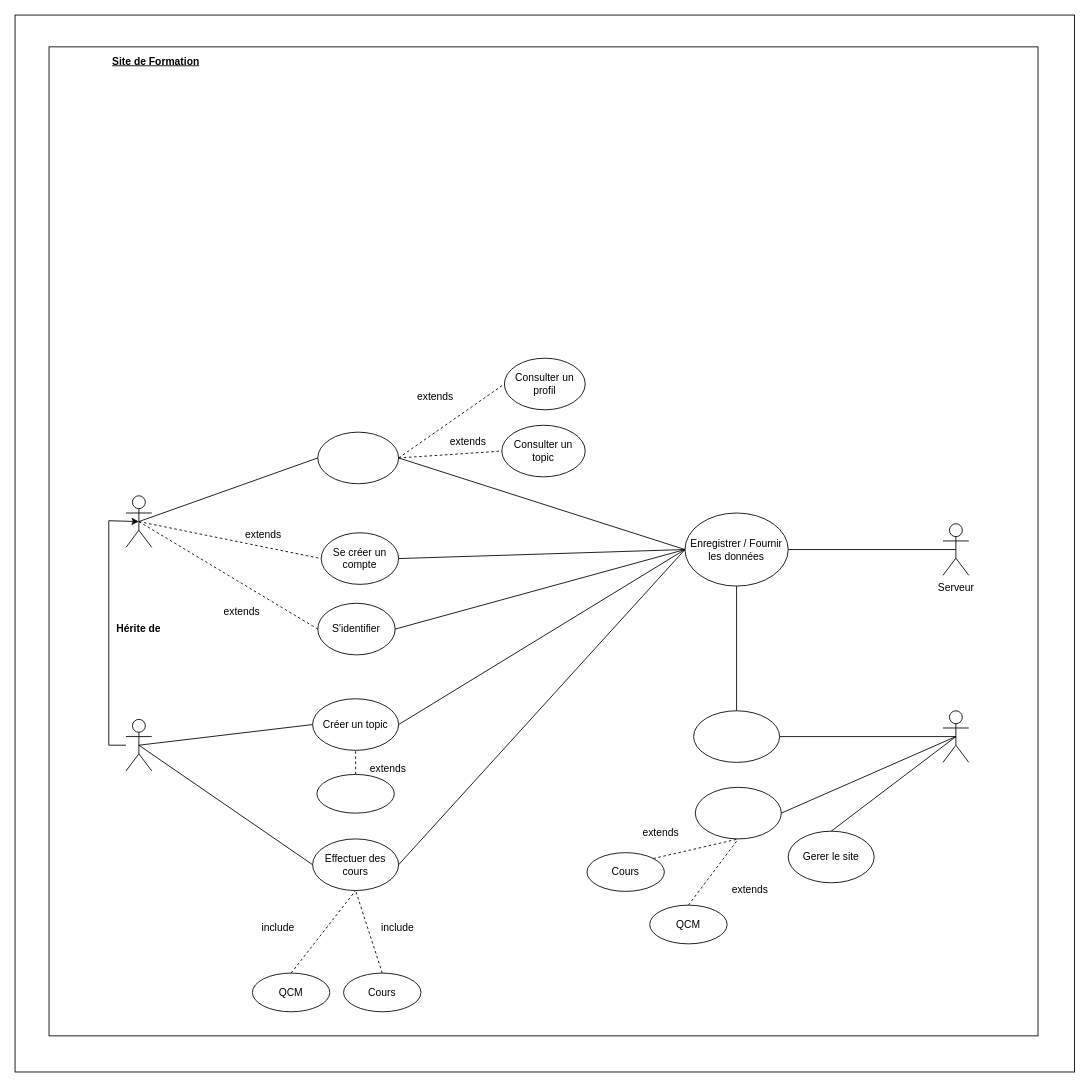
Image size: 1090x1087. Some labels were removed from this diagram. The shapes that lost their labels are listed below. From the top down, each one's centre as x and y in pixels, then its label:
pixel 358 457: Consulter le forum
pixel 138 521: Internaute
pixel 138 745: Membre
pixel 736 736: Maintenir le serveur
pixel 955 736: Adminisateur
pixel 355 793: Reponde aux messages
pixel 737 812: Ajouter du contenu
